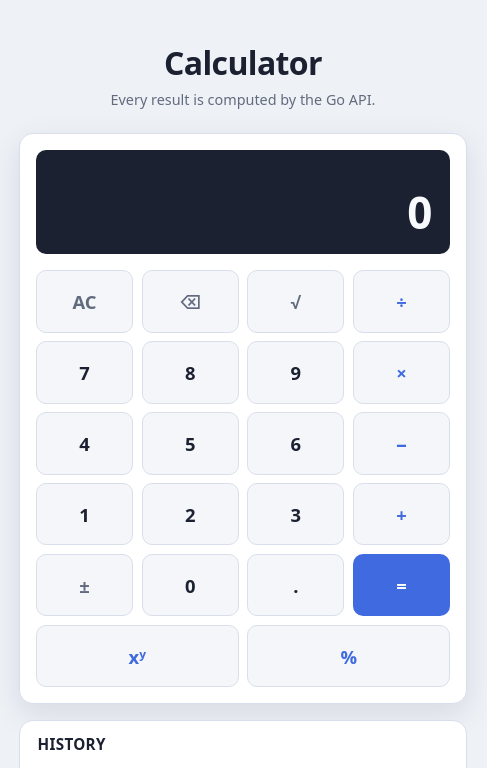
Test: performing a calculation › clears history on demand
Click the button "7".
click(84, 372)  # box [36,341,133,404]
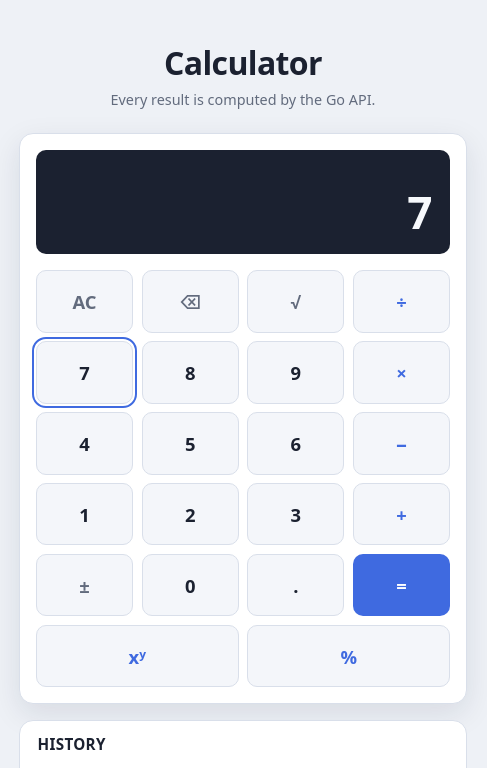
Click the button named "Multiply".
click(402, 372)  # box [353,341,450,404]
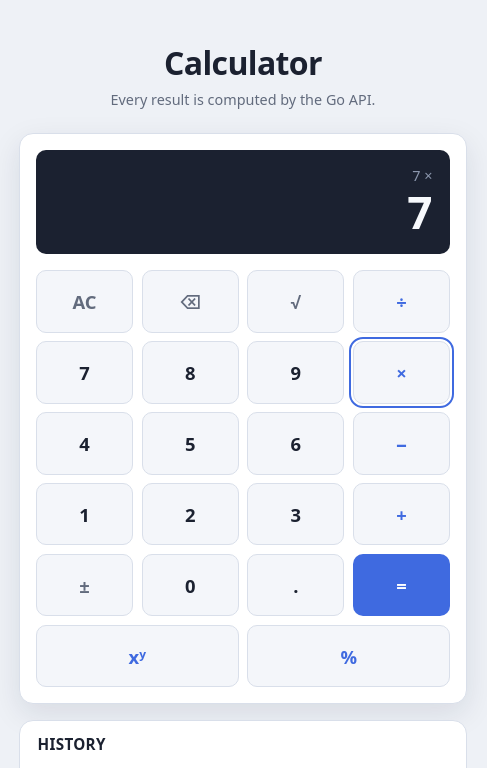
Click the button "8".
click(190, 372)  # box [142,341,239,404]
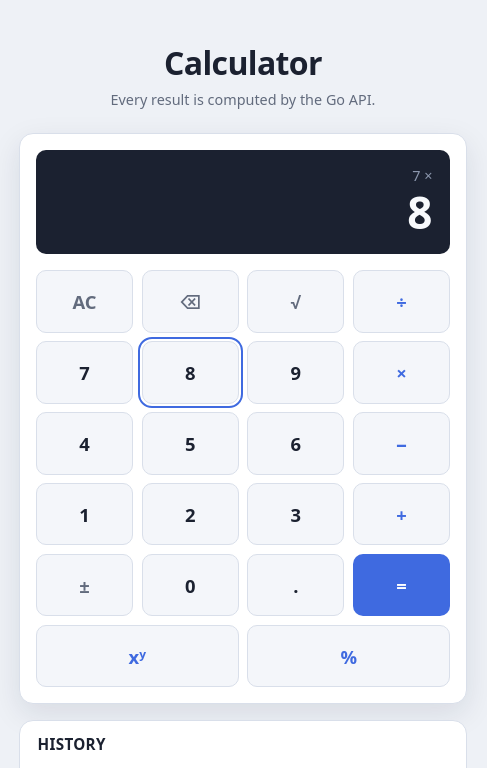
Click the button named "Equals".
click(402, 585)  # box [353,554,450,616]
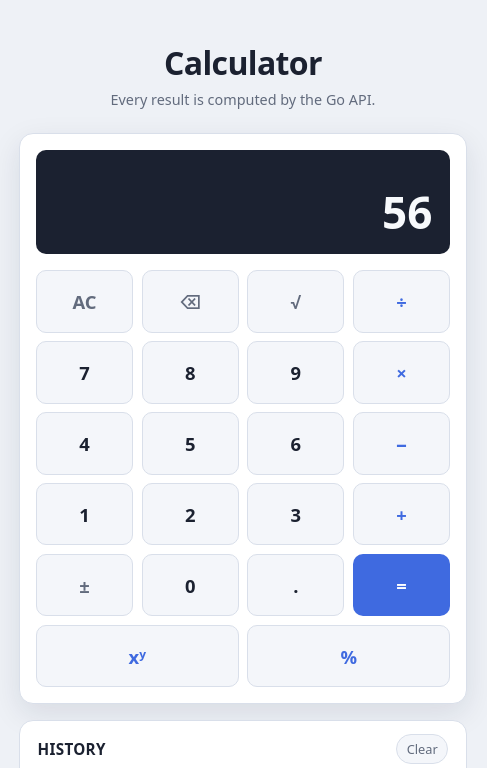
Click the button "Clear".
click(422, 749)  # box [396,734,448,764]
(page scrolled)
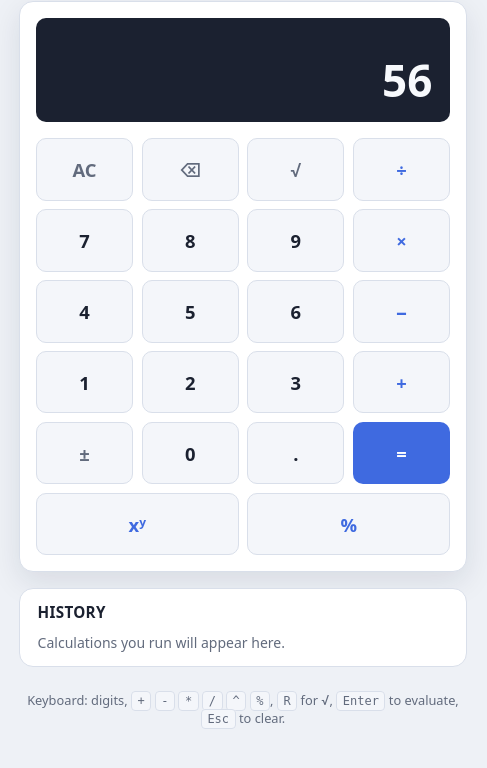
Expected: the text "Calculations you run will appear here." is shown, [38,633,285,652]
